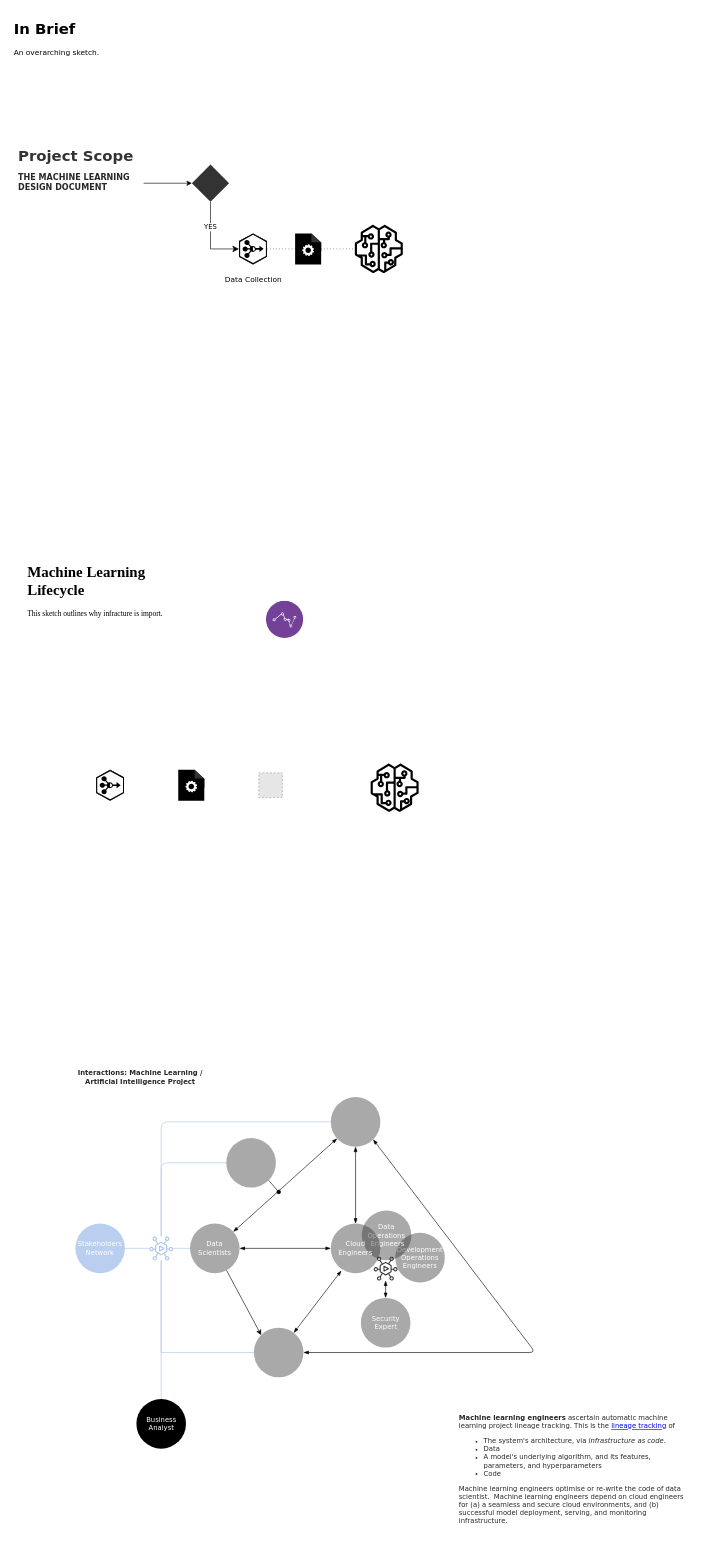
Some shapes in this 707 by 1544 pixel diagram are drawn without their labels. Grey dashed boxes stand in for pictures. The centre of each missing label's shape, as x and y in pixels:
"Data Engineers" goes at point 278,1352.
"feasible?" goes at point 210,183.
"Human Computer Interface Engineer" goes at point 251,1162.
"Machine Learning Engineers" goes at point 355,1121.
